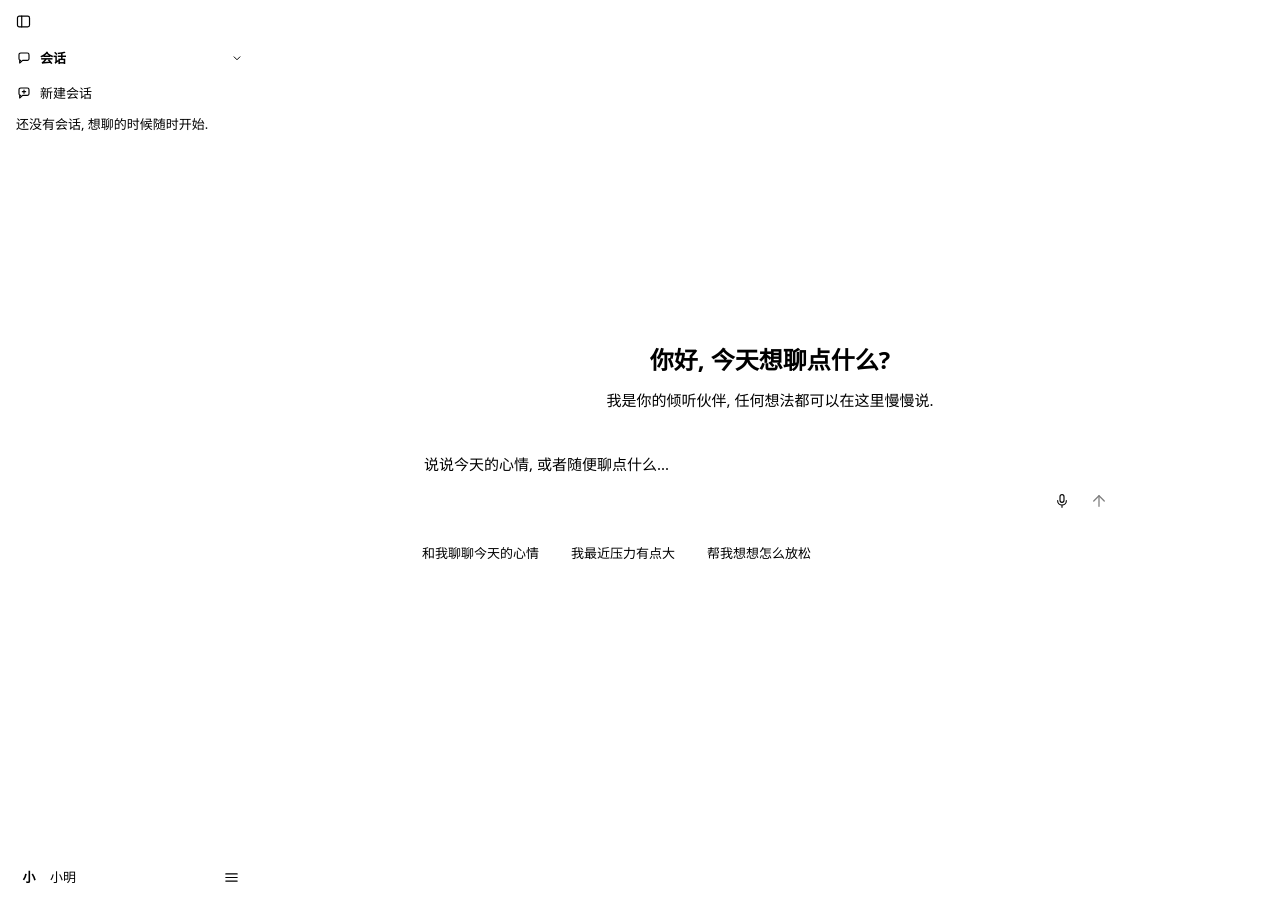
Test: App (壳与路由 v2) › UserMenu 菜单项: 个人资料/设置 各自导航并收起菜单 (关于项已退场)
Click the button named "打开菜单" at (232, 877), box [219, 864, 244, 890]
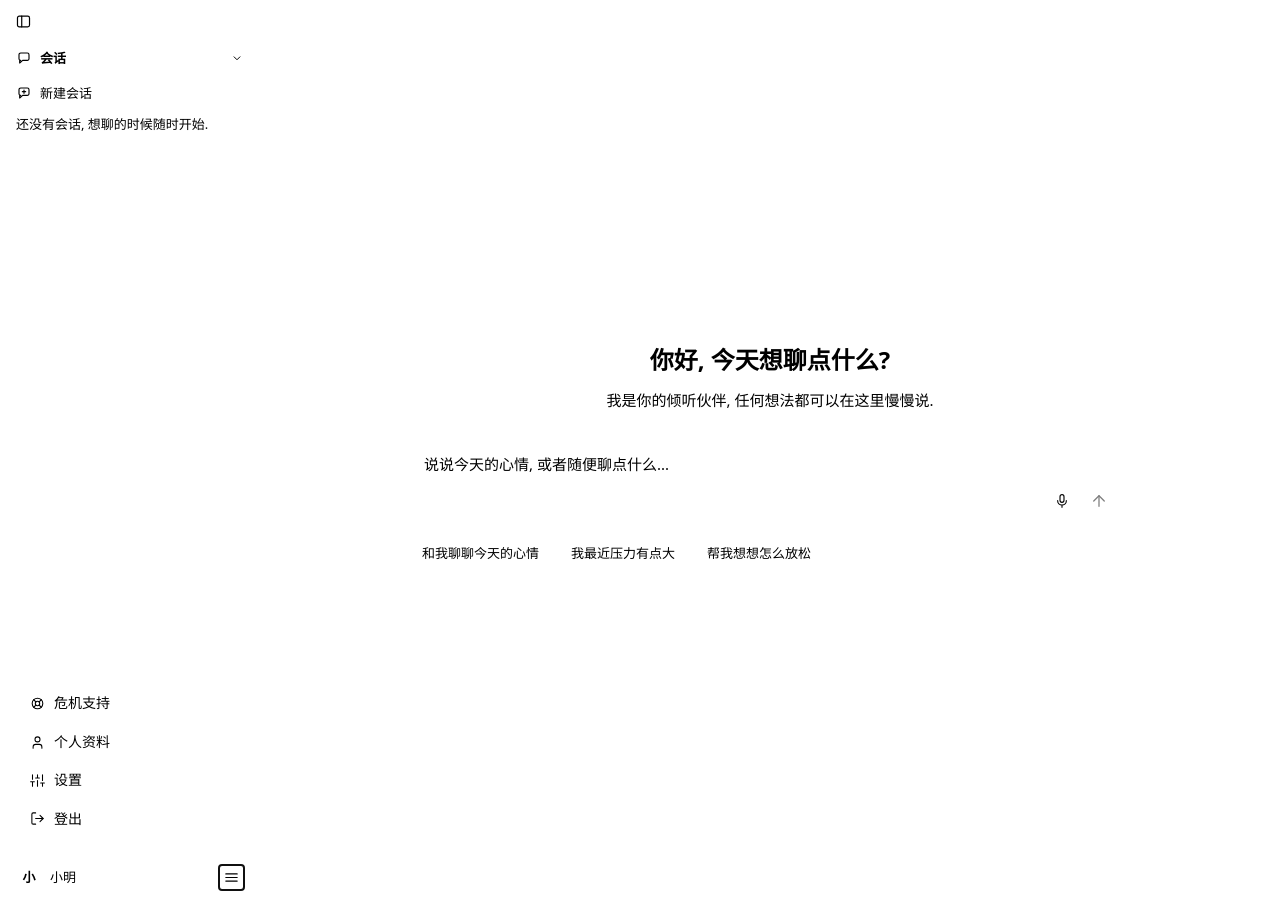
Click the menu item "设置" at (130, 780), box [18, 761, 242, 800]
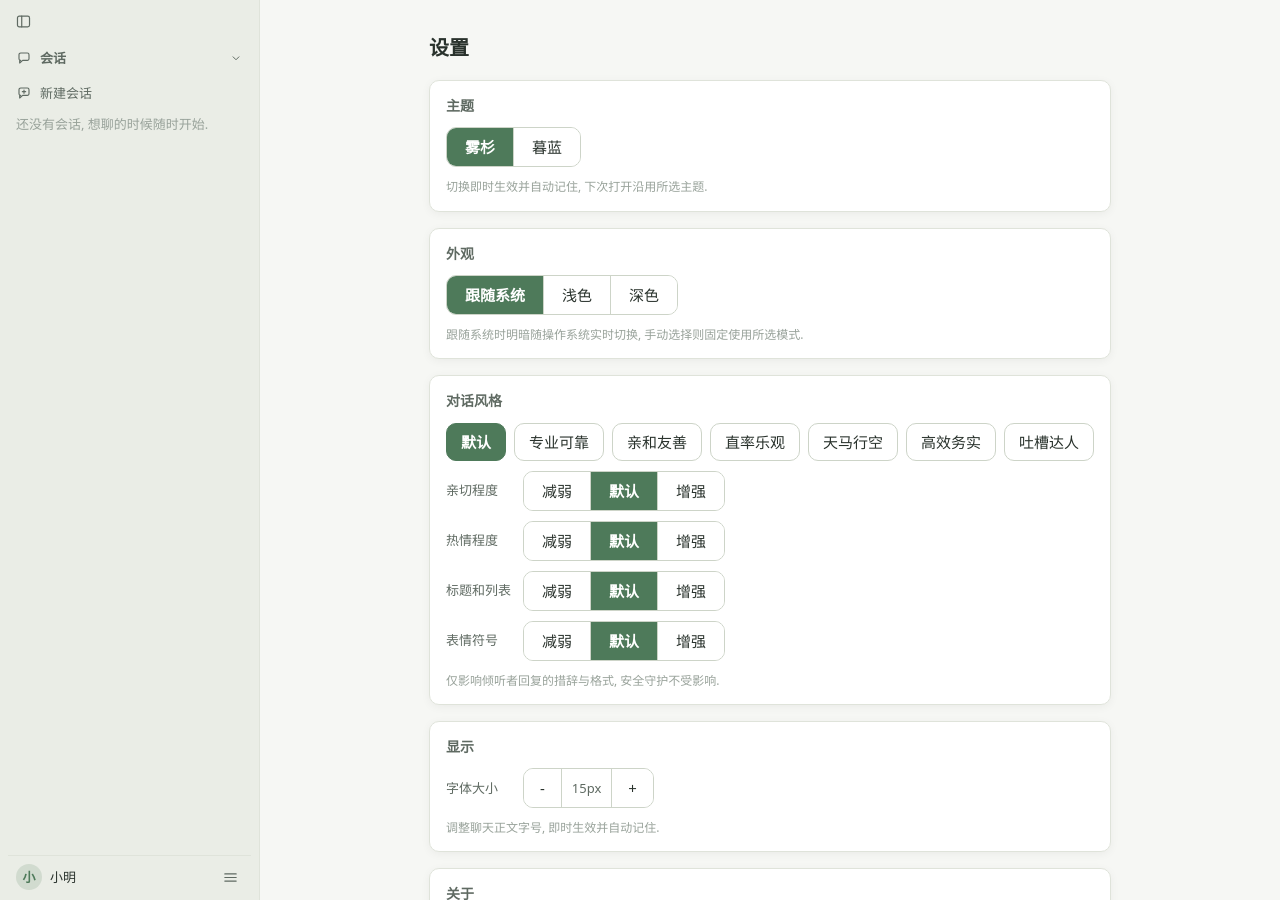
Expected: the heading "设置" is shown, [429, 34, 469, 61]
Expected: the menu is gone
Click the button named "打开菜单" at (230, 877), box [218, 864, 243, 890]
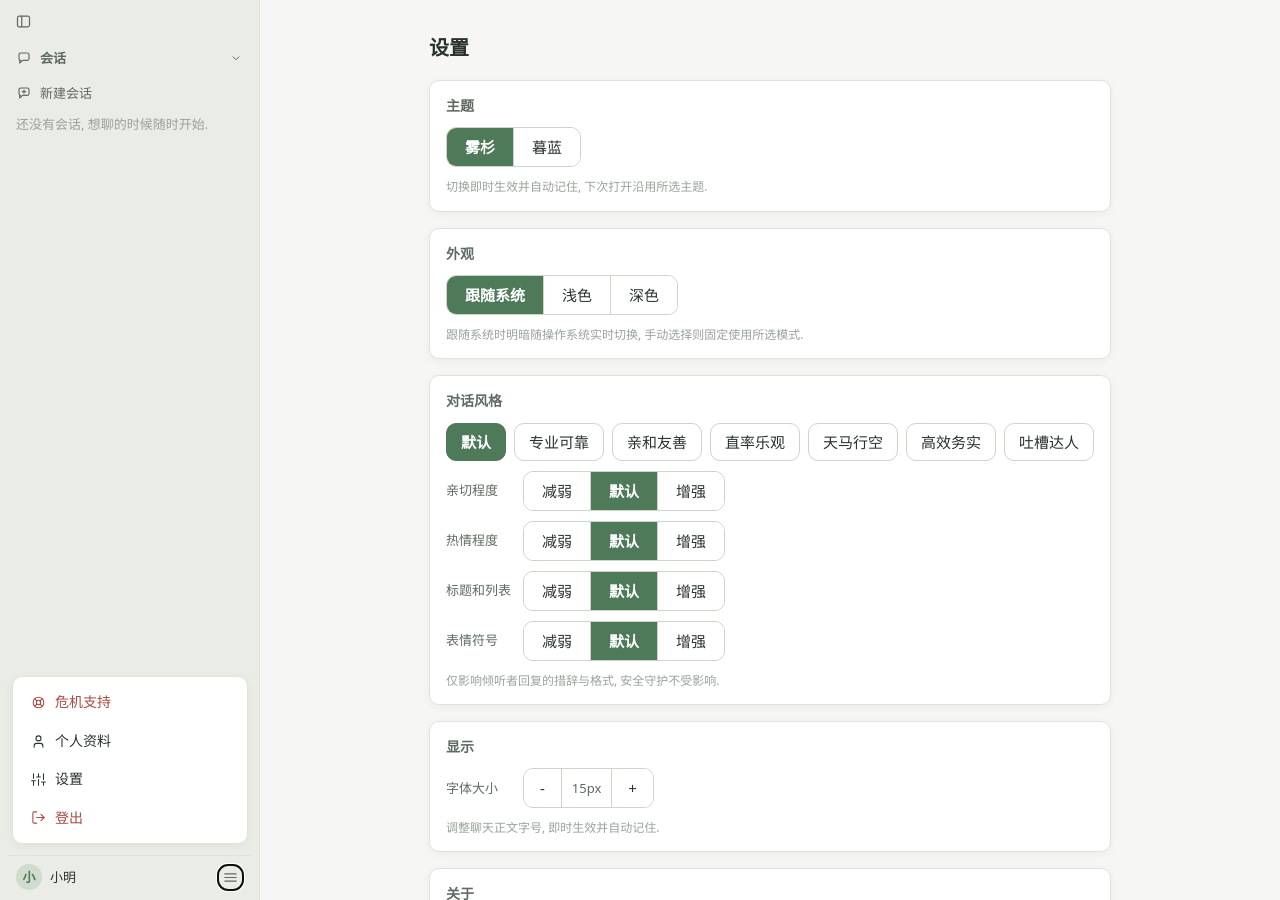
Click the menu item "个人资料" at (130, 741), box [19, 722, 241, 760]
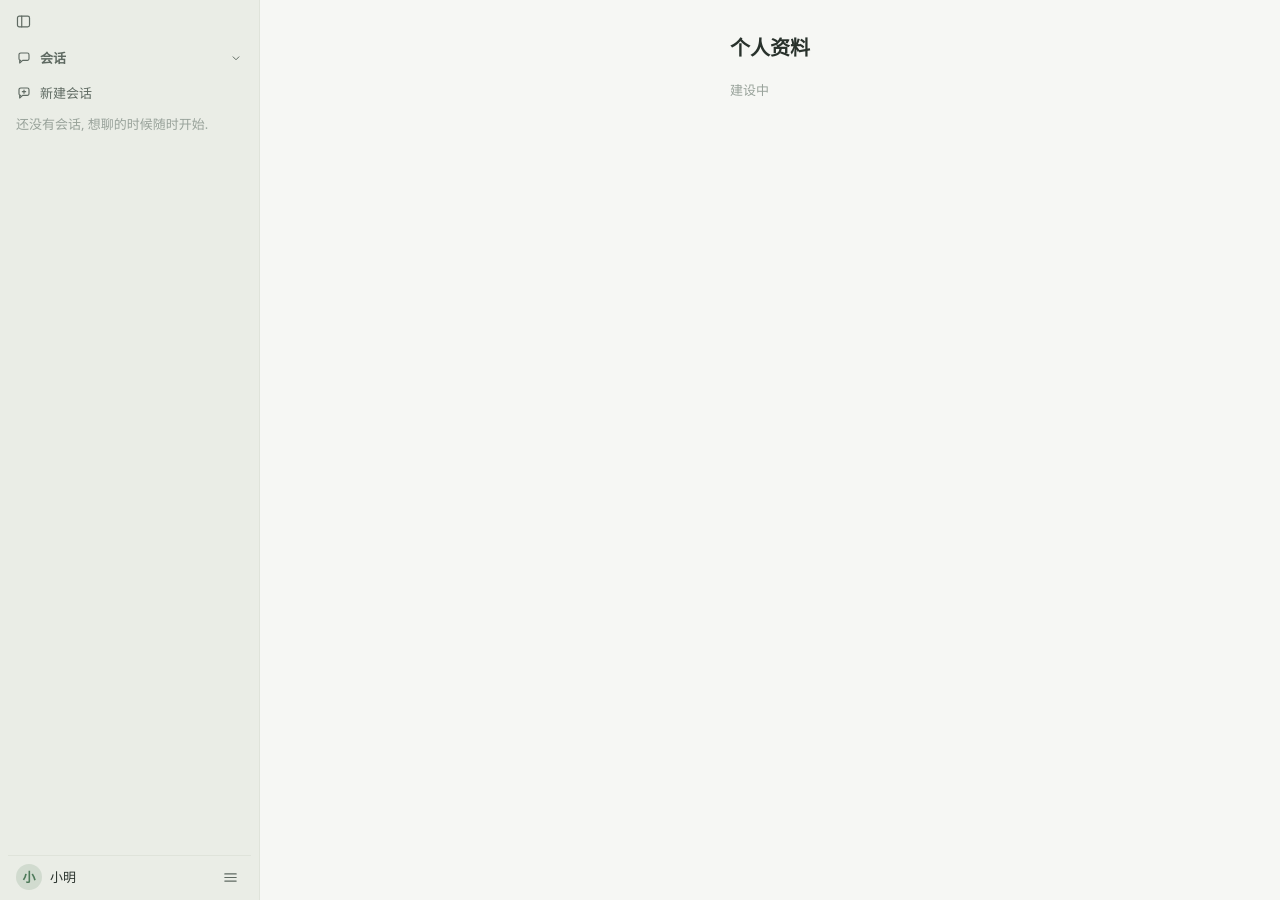
Expected: the heading "个人资料" is shown, [730, 32, 810, 64]
